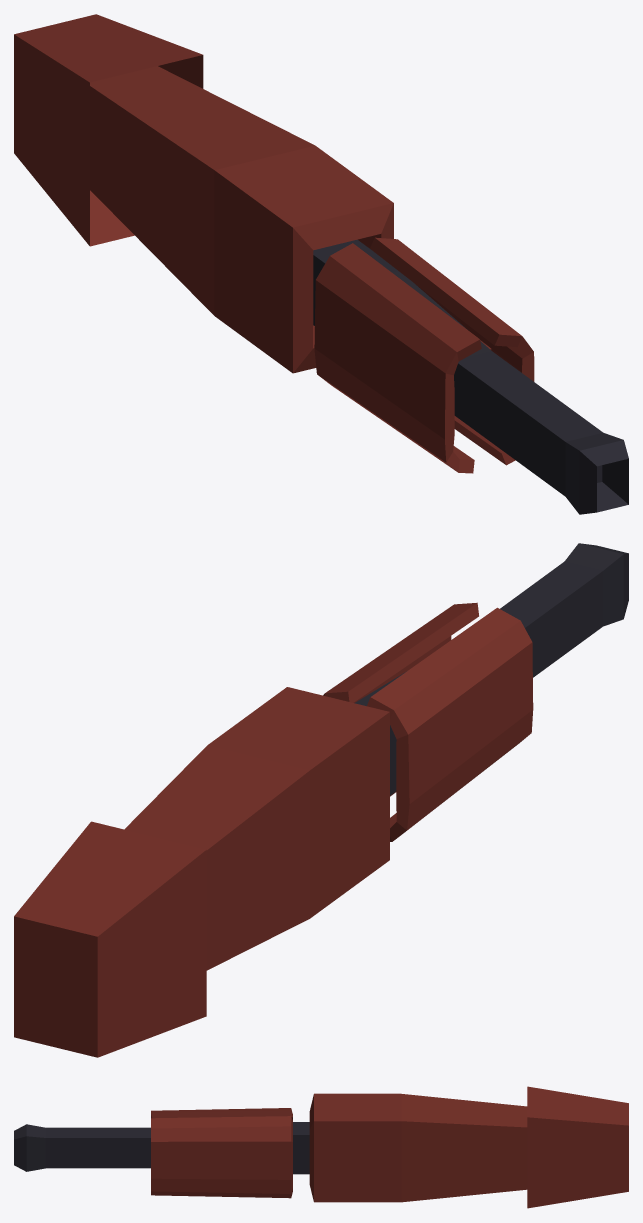
The model's file is Gun.fbx.
3 renders of one model, top to bottom at view 1: azimuth 30°, elevation 25°; view 2: azimuth 150°, elevation 25°; view 3: azimuth 270°, elevation 25°, orthographic. The views are drawn at different scales.
Parts seen in each view (by area): view 1: Cube, Cube.003, Cube.002, Cube.001; view 2: Cube, Cube.003, Cube.002, Cube.001; view 3: Cube, Cube.001, Cube.002, Cube.003.
Part boxes in pixels (bbox=[...]): Cube: bbox=[14, 14, 393, 373]; Cube.003: bbox=[314, 243, 481, 473]; Cube.002: bbox=[313, 239, 628, 514]; Cube.001: bbox=[370, 237, 534, 465]; Cube: bbox=[14, 687, 389, 1057]; Cube.003: bbox=[367, 607, 533, 841]; Cube.002: bbox=[354, 543, 628, 795]; Cube.001: bbox=[323, 602, 478, 796]; Cube: bbox=[309, 1086, 628, 1208]; Cube.001: bbox=[151, 1116, 292, 1198]; Cube.002: bbox=[14, 1122, 309, 1174]; Cube.003: bbox=[151, 1108, 292, 1120].
Size of the model in its own units: 225 by 310 by 1896.
